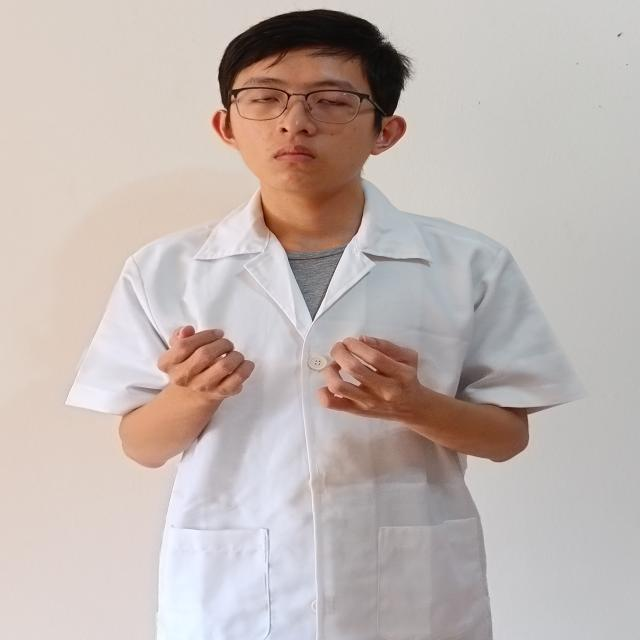person_with_labcoat: (67, 10, 581, 640)
